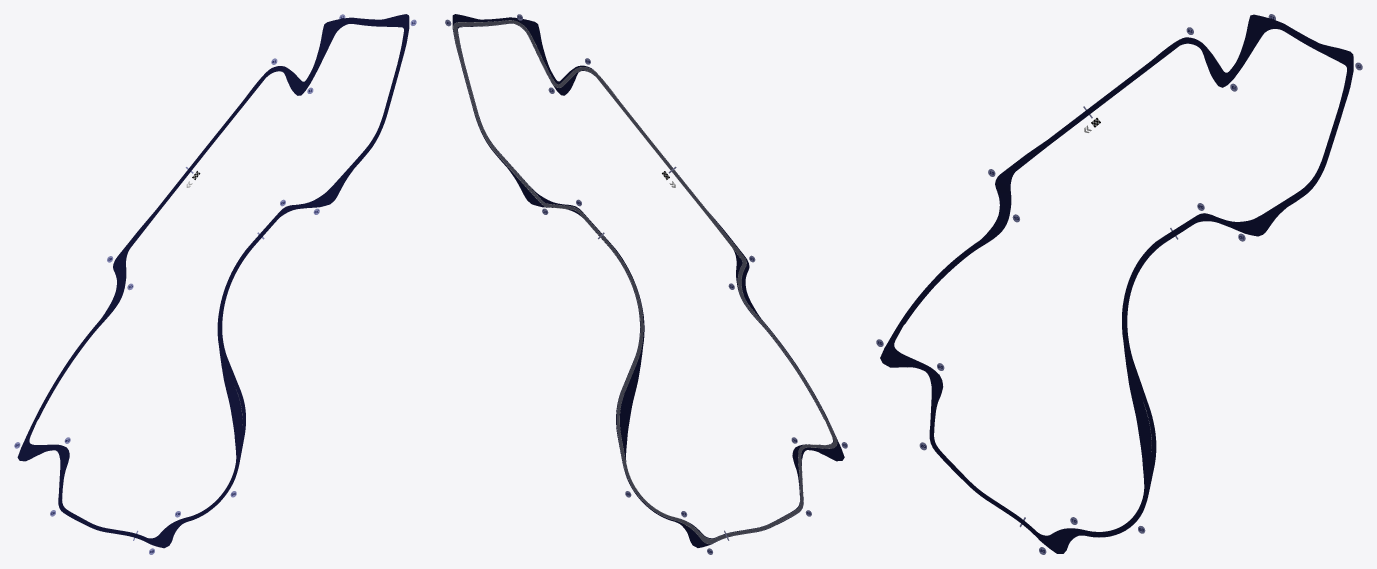
Rendered from melbourne.glb.
3 views of the same model, side by side, from view 1: azimuth 30°, elevation 25°; view 2: azimuth 150°, elevation 25°; view 3: azimuth 330°, elevation 25° (orthographic). The views are drawn at different scales.
Parts seen in each view (by area): view 1: runoff; view 2: tracklimit, runoff, whiteline; view 3: runoff.
Part boxes in pixels (x1,y1,x2,y2): runoff: [17, 14, 409, 548]; tracklimit: [453, 20, 837, 543]; runoff: [452, 14, 844, 547]; whiteline: [453, 20, 837, 544]; runoff: [880, 14, 1353, 553].
Bounding box in the file's own units: 1559 × 1829 × 2.89.
